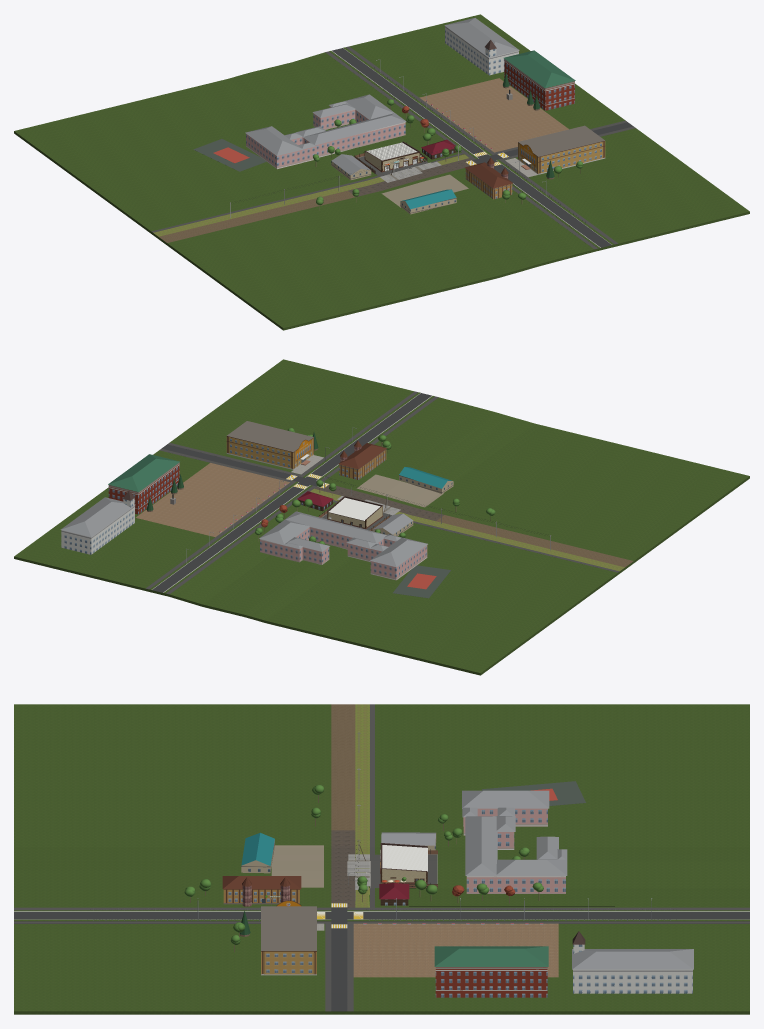
Rendered from ТЦ Вера.glb.
3 views of the same model, one above another, from view 1: azimuth 30°, elevation 25°; view 2: azimuth 150°, elevation 25°; view 3: azimuth 270°, elevation 25° (orthographic). The views are drawn at different scales.
Parts seen in each view (by area): view 1: Участок__газон, Окружение__плитка_площади, Окружение__кровля_серая, Участок__асфальт, Участок__тротуар, Окружение__школа2, Участок__грунтовка, Окружение__красный_кирпич, Участок__грунт_зелень, Окружение__кровля_дши, Окружение__кровля_зелёная, Окружение__белое_здание (+9 smaller); view 2: Участок__газон, Окружение__плитка_площади, Окружение__кровля_серая, Участок__асфальт, Участок__тротуар, Окружение__школа2, Участок__грунтовка, Участок__грунт_зелень, Окружение__белое_здание, Окружение__кровля_дши, Участок__грунт, Окружение__кровля_зелёная (+9 smaller); view 3: Участок__газон, Окружение__кровля_серая, Окружение__плитка_площади, Участок__тротуар, Участок__асфальт, Окружение__красный_кирпич, Участок__грунтовка, Окружение__белое_здание, Окружение__школа2, Участок__грунт_зелень, Окружение__кровля_дши, Окружение__кровля_зелёная (+11 smaller).
Boxes of the visible parts, <box> form: Участок__газон: <box>14,14,749,330</box>; Окружение__плитка_площади: <box>419,78,568,152</box>; Окружение__кровля_серая: <box>245,18,519,175</box>; Участок__асфальт: <box>332,48,633,247</box>; Участок__тротуар: <box>151,46,635,249</box>; Окружение__школа2: <box>246,106,405,169</box>; Участок__грунтовка: <box>159,190,355,242</box>; Окружение__красный_кирпич: <box>504,59,574,110</box>; Участок__грунт_зелень: <box>153,154,468,236</box>; Окружение__кровля_дши: <box>518,125,604,156</box>; Окружение__кровля_зелёная: <box>504,50,575,88</box>; Окружение__белое_здание: <box>445,26,518,75</box>; Участок__газон: <box>14,359,749,675</box>; Окружение__плитка_площади: <box>135,463,289,537</box>; Окружение__кровля_серая: <box>60,497,427,567</box>; Участок__асфальт: <box>152,393,431,592</box>; Участок__тротуар: <box>146,391,619,594</box>; Окружение__школа2: <box>260,527,427,580</box>; Участок__грунтовка: <box>436,515,633,567</box>; Участок__грунт_зелень: <box>310,488,624,571</box>; Окружение__белое_здание: <box>61,498,134,554</box>; Окружение__кровля_дши: <box>227,421,313,451</box>; Участок__грунт: <box>357,474,443,507</box>; Окружение__кровля_зелёная: <box>108,454,179,492</box>; Участок__газон: <box>14,704,749,1014</box>; Окружение__кровля_серая: <box>381,790,693,969</box>; Окружение__плитка_площади: <box>353,923,558,977</box>; Участок__тротуар: <box>14,704,749,1011</box>; Участок__асфальт: <box>14,907,749,1011</box>; Окружение__красный_кирпич: <box>435,967,547,997</box>; Участок__грунтовка: <box>331,704,355,830</box>; Окружение__белое_здание: <box>573,944,692,993</box>; Окружение__школа2: <box>463,808,565,893</box>; Участок__грунт_зелень: <box>355,704,369,907</box>; Окружение__кровля_дши: <box>261,906,316,950</box>; Окружение__кровля_зелёная: <box>434,946,548,966</box>.
Size of the model in its own units: 300 by 25.62 by 300.
113 materials, 51 textured.
